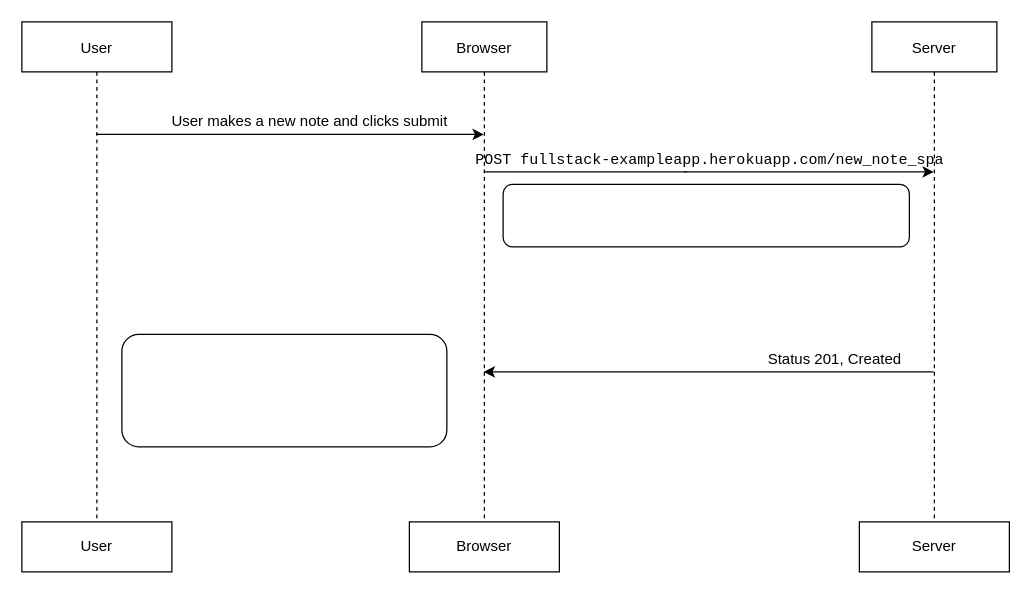
Image size: 1031x594. Some labels were removed from this diagram. Here are the shapes that lost their labels. From the top down, the centre of each, then its label:
pixel 705 215: a post request including the users note is made to the server
pixel 284 390: New note gets created, drawn on page and sent to server
